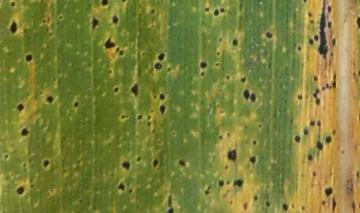tarspot: (316, 1, 331, 62), (311, 86, 323, 107), (128, 80, 140, 100), (322, 184, 337, 198), (225, 148, 239, 162), (104, 37, 117, 49), (91, 15, 100, 32), (232, 178, 245, 189), (242, 88, 251, 103), (248, 91, 257, 105), (240, 200, 251, 211), (151, 157, 161, 169), (330, 198, 338, 213), (165, 193, 173, 207), (121, 160, 131, 171), (116, 181, 126, 192), (292, 134, 303, 144), (311, 73, 321, 84), (310, 170, 320, 181), (9, 21, 18, 33), (158, 104, 167, 116), (281, 201, 290, 213), (330, 36, 339, 48), (315, 140, 324, 152), (306, 152, 315, 164), (120, 113, 130, 123), (177, 158, 187, 168), (250, 138, 260, 148), (248, 155, 258, 165), (264, 31, 275, 40), (329, 80, 338, 91), (349, 199, 356, 213), (111, 14, 119, 26), (157, 52, 166, 62), (153, 62, 163, 71), (231, 38, 240, 48), (239, 76, 248, 86), (217, 179, 226, 189), (202, 188, 212, 197), (251, 194, 261, 203), (295, 92, 304, 102), (315, 119, 324, 129), (328, 49, 336, 60), (324, 135, 332, 146), (199, 60, 208, 69), (320, 199, 329, 208), (306, 36, 314, 46), (312, 32, 320, 42), (302, 126, 309, 137), (331, 127, 338, 138), (355, 15, 360, 30), (20, 128, 28, 137), (42, 159, 50, 168), (16, 186, 25, 194), (158, 92, 166, 101), (264, 200, 273, 208), (308, 119, 316, 128), (225, 130, 232, 140), (326, 20, 333, 30), (353, 169, 360, 179), (25, 54, 33, 62), (112, 86, 120, 94), (212, 8, 220, 16), (151, 93, 159, 101), (213, 61, 221, 69), (306, 10, 314, 18), (60, 167, 68, 175), (140, 50, 148, 58), (217, 133, 224, 142), (299, 204, 308, 211), (326, 5, 333, 14), (339, 148, 346, 157), (330, 71, 336, 81), (351, 71, 357, 81), (135, 114, 143, 121), (219, 6, 226, 14), (198, 70, 206, 77), (224, 74, 232, 81), (206, 184, 213, 192), (224, 179, 232, 186), (290, 201, 297, 209), (100, 1, 109, 7), (166, 206, 175, 212), (17, 103, 24, 110), (46, 96, 53, 103), (118, 50, 125, 57), (223, 164, 230, 171), (165, 66, 173, 72), (170, 131, 178, 137), (257, 122, 263, 130), (324, 82, 330, 90), (10, 1, 17, 7), (73, 101, 79, 108), (135, 156, 142, 162), (127, 187, 133, 194), (217, 36, 224, 42), (215, 50, 221, 57), (228, 199, 234, 206), (296, 45, 302, 52), (308, 18, 315, 24), (218, 109, 224, 116), (29, 183, 35, 189), (146, 121, 152, 127), (149, 9, 156, 14), (106, 69, 113, 74), (22, 163, 28, 168), (204, 7, 210, 12), (357, 67, 359, 81), (58, 15, 63, 20), (48, 32, 53, 37), (147, 115, 152, 120), (4, 154, 8, 159), (301, 1, 310, 3), (42, 19, 46, 23), (120, 1, 127, 3), (358, 199, 359, 213)
